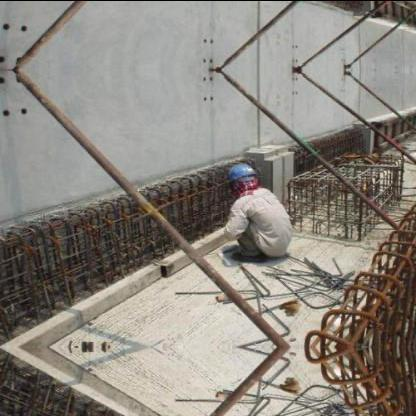Helmet: (223, 159, 260, 193)
